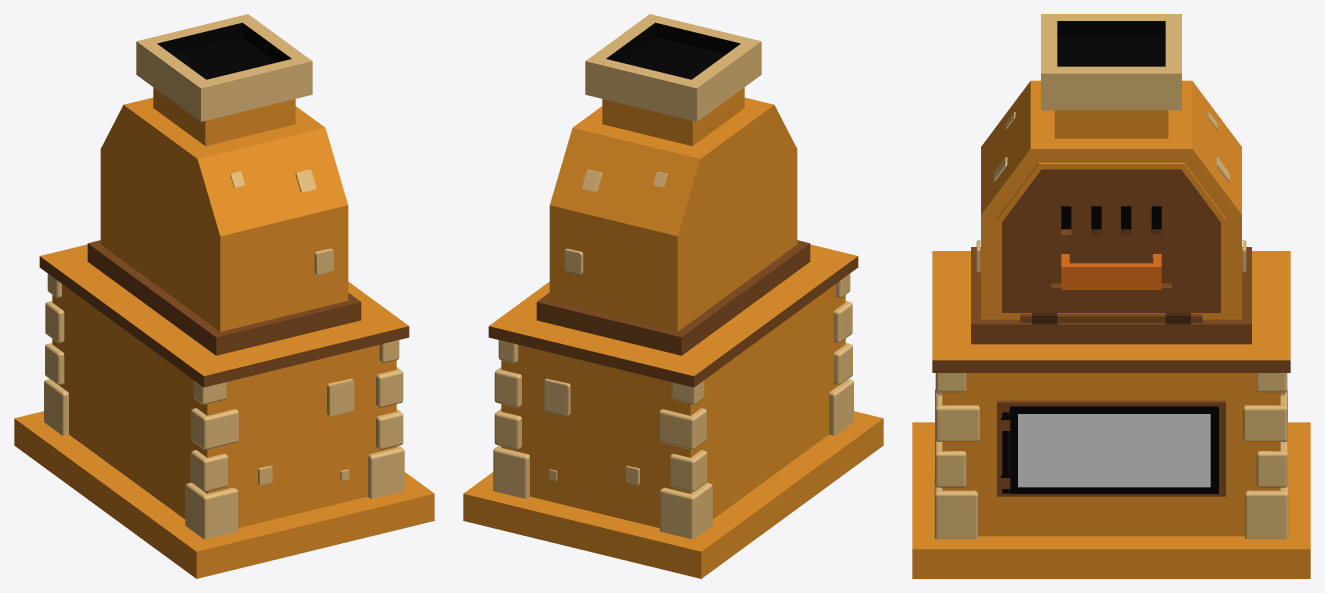
Rendered from Ofen.fbx.
3 renders of one model, left to right at view 1: azimuth 30°, elevation 25°; view 2: azimuth 150°, elevation 25°; view 3: azimuth 270°, elevation 25°, orthographic. The views are drawn at different scales.
Visible parts, largest first — view 1: Cube.008; view 2: Cube.008; view 3: Cube.008, Cube.006, Cube.005.
Boxes of the visible parts, x1=… form: Cube.008: x1=14, y1=14, x2=434, y2=578; Cube.008: x1=463, y1=14, x2=883, y2=578; Cube.008: x1=912, y1=14, x2=1310, y2=578; Cube.006: x1=1002, y1=169, x2=1220, y2=324; Cube.005: x1=1001, y1=406, x2=1218, y2=493.
Bounding box in the file's own units: 300 × 520 × 398.
